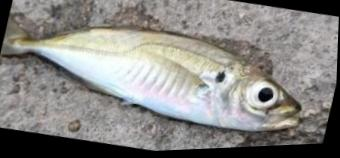fish: (0, 17, 304, 135)
